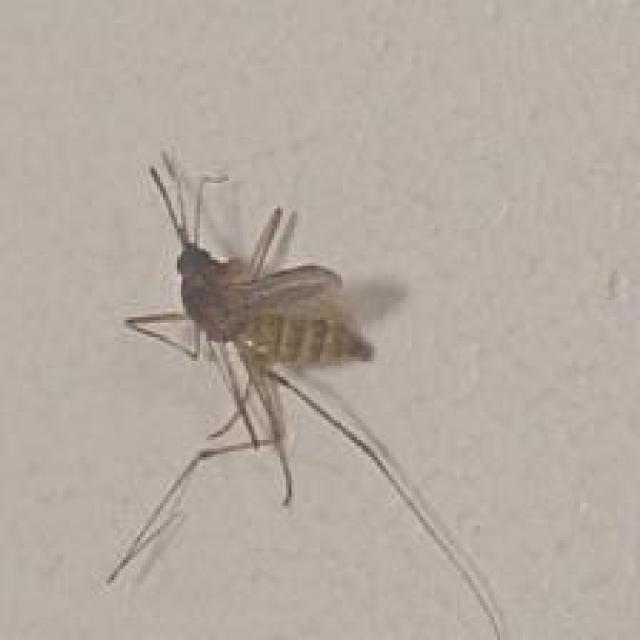Culex: (104, 148, 515, 640)
